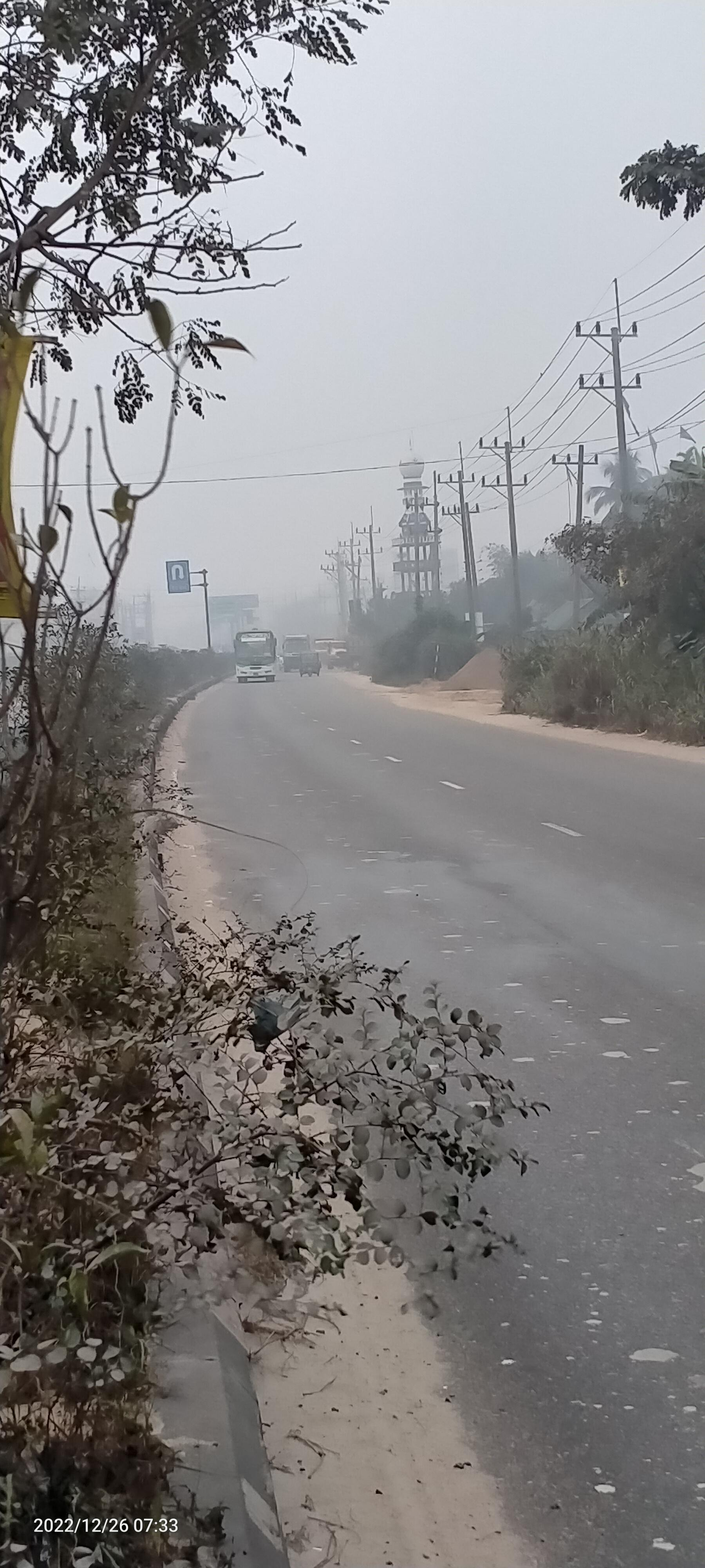Bus: (226, 624, 280, 688)
Truck: (281, 631, 313, 674)
